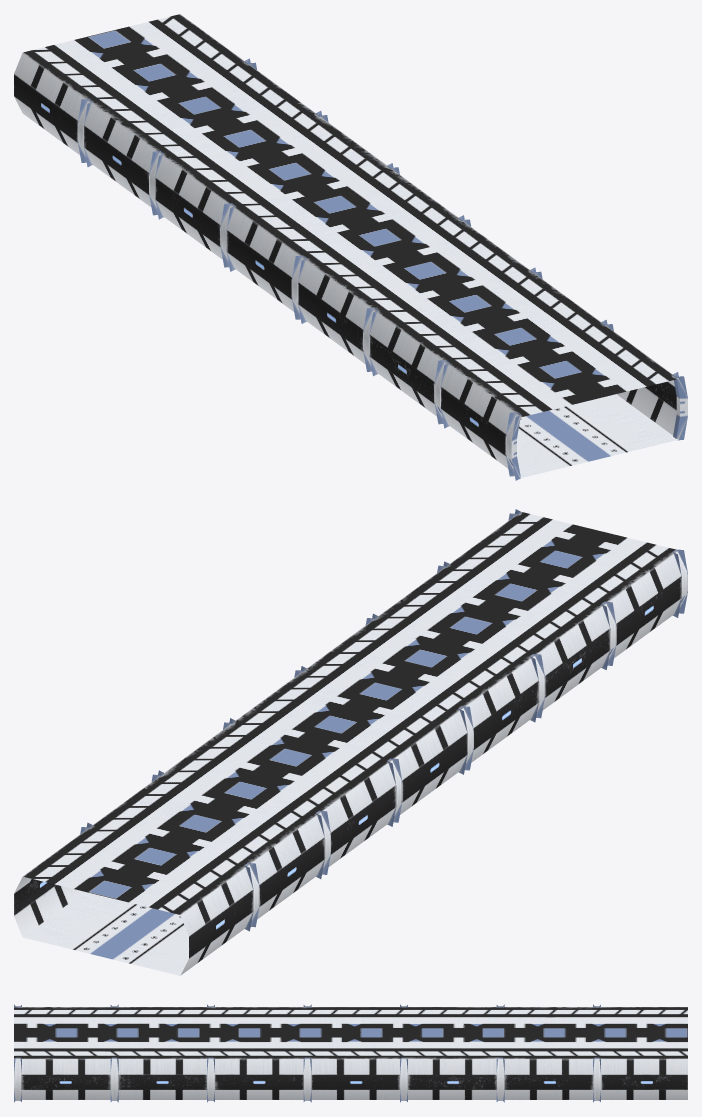
3 renders of one model, top to bottom at view 1: azimuth 30°, elevation 25°; view 2: azimuth 150°, elevation 25°; view 3: azimuth 270°, elevation 25°, orthographic. The views are drawn at different scales.
Visible parts, largest first — view 1: block:block_lvl2_block_lvl2; view 2: block:block_lvl2_block_lvl2; view 3: block:block_lvl2_block_lvl2.
Part boxes in pixels (bbox=[...]): block:block_lvl2_block_lvl2: bbox=[14, 14, 687, 480]; block:block_lvl2_block_lvl2: bbox=[14, 509, 687, 975]; block:block_lvl2_block_lvl2: bbox=[14, 1004, 687, 1102].
Size of the model in its own units: 13.86 by 4.79 by 67.9.
Materials: 1 (1 with a texture image).
